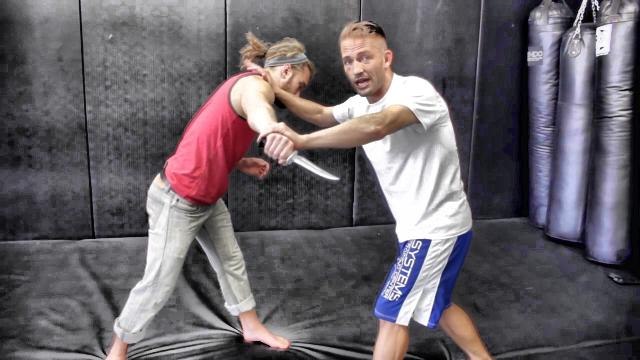knife: (254, 132, 344, 188)
